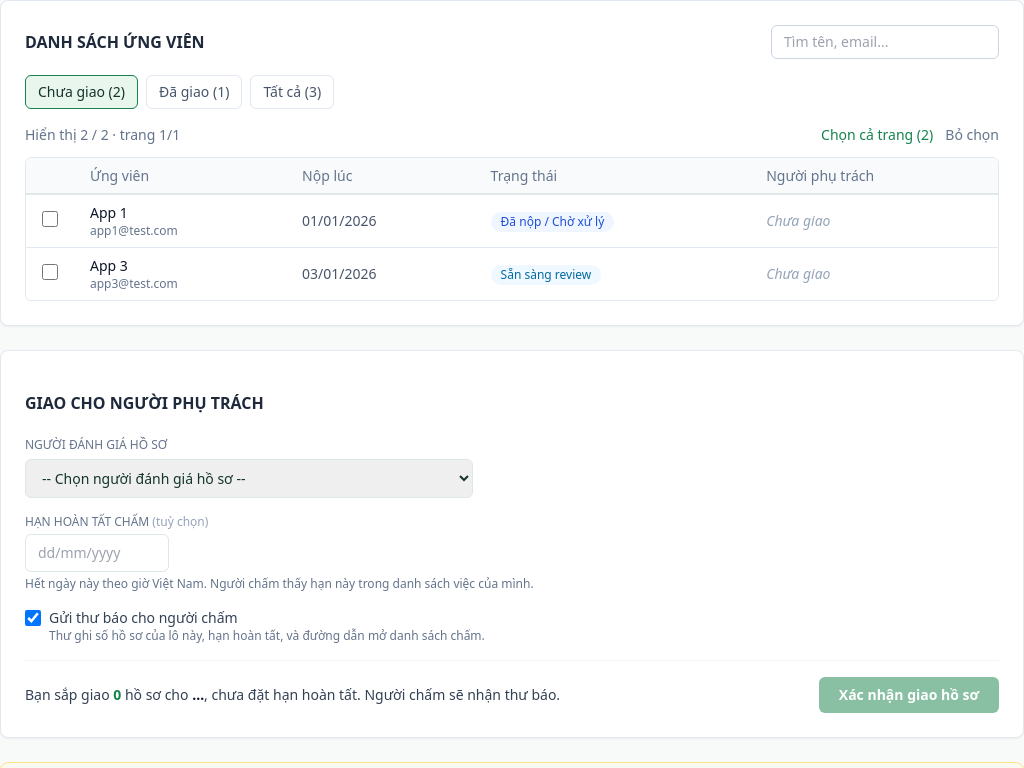
Manual Bulk Assignment UX (AssignBulkForm) › SELECT_PAGE_IS_ONE_LOT: select-all takes the page, not the whole intake
This screenshot has width=1024, height=768.
Step 1. Click the button "Chọn cả trang (2)" → (877, 135), box [821,125,933,145]
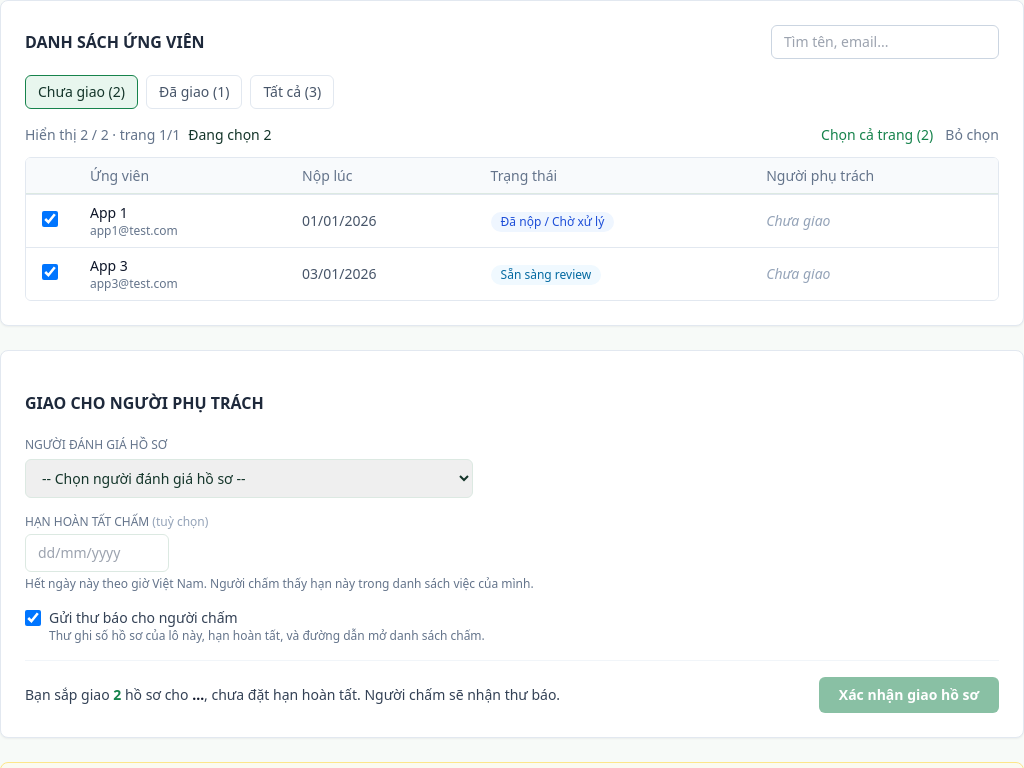
Expected: the text "Bạn sắp giao" shows "2", [113,685,121,704]
